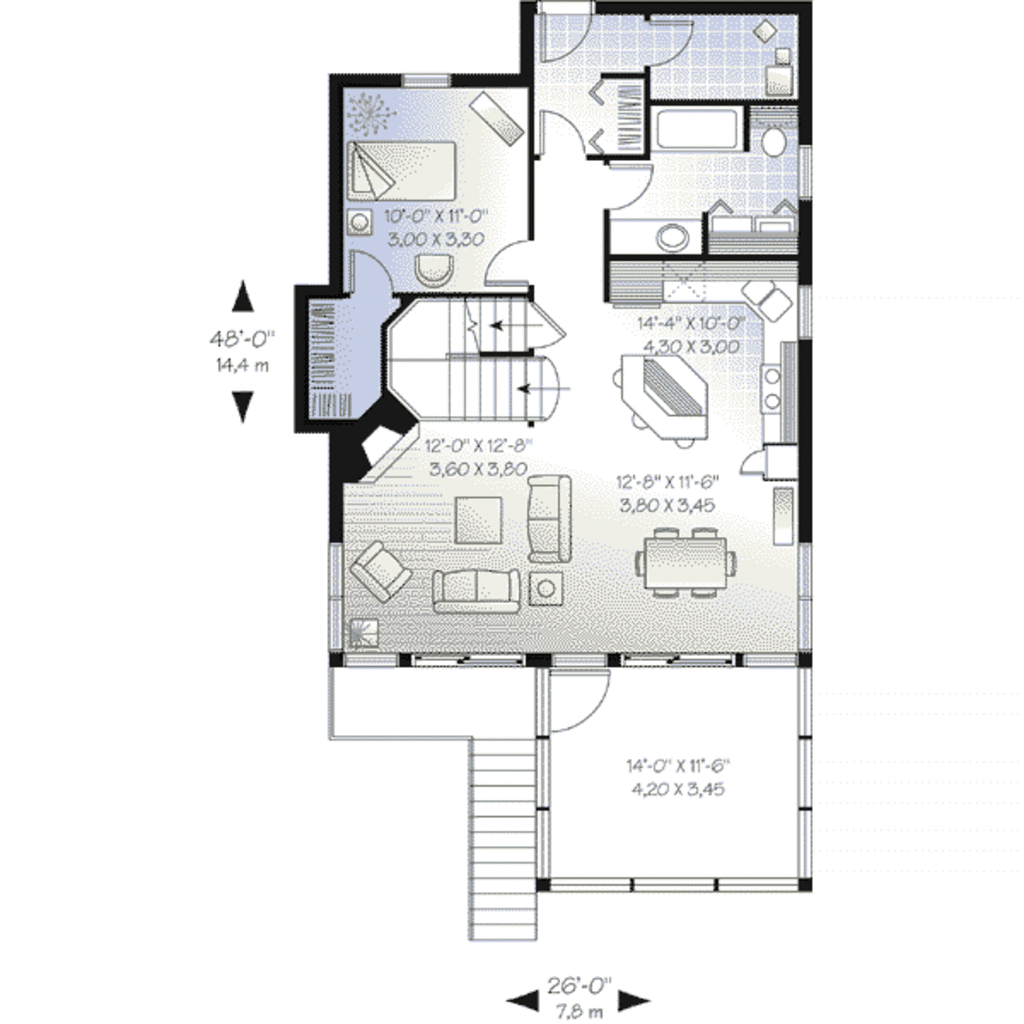bed: (341, 138, 458, 201)
dining_table: (629, 520, 740, 598)
door: (552, 671, 613, 735), (538, 7, 595, 62), (605, 159, 663, 212), (538, 105, 590, 160), (481, 234, 533, 287), (648, 18, 696, 71), (347, 247, 392, 299)
kitchen_bar: (608, 348, 716, 449)
large_sofa: (525, 474, 573, 566), (426, 567, 525, 611)
small_sink: (643, 222, 697, 253)
small_sofa: (350, 538, 410, 600)
stairs: (381, 296, 545, 421), (465, 733, 543, 944)
tub: (651, 107, 758, 158)
windows: (795, 538, 814, 653), (406, 654, 535, 668), (792, 280, 814, 343), (798, 143, 814, 199), (398, 72, 452, 88)
